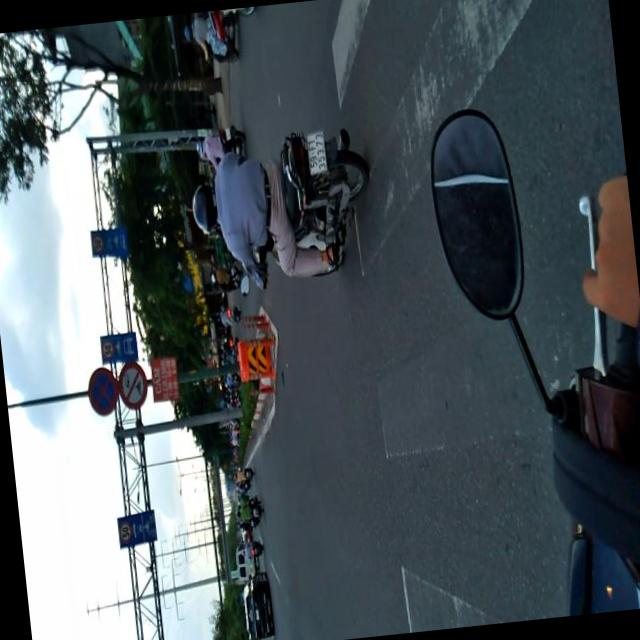P-105: (114, 358, 150, 409)
P-130: (84, 362, 119, 417)
